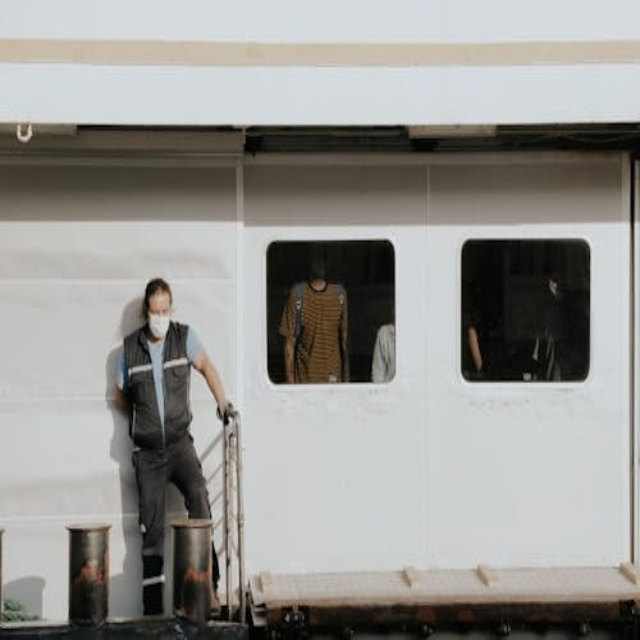Mascara: (145, 306, 172, 338)
